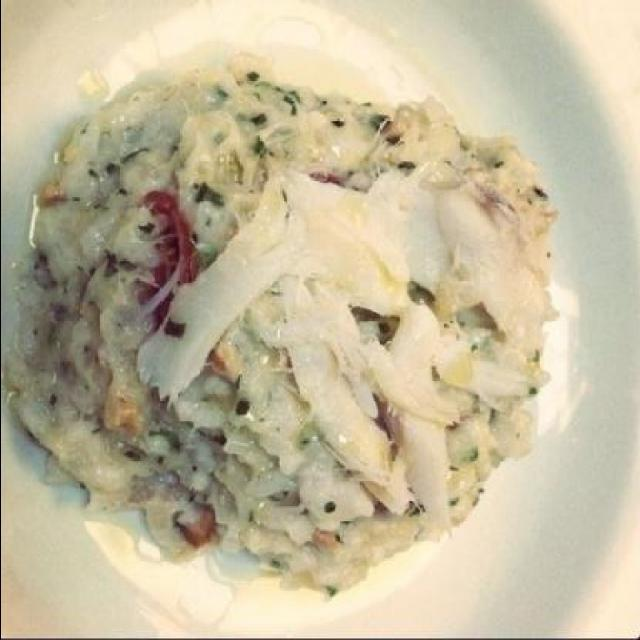Risotto: (22, 60, 544, 566)
